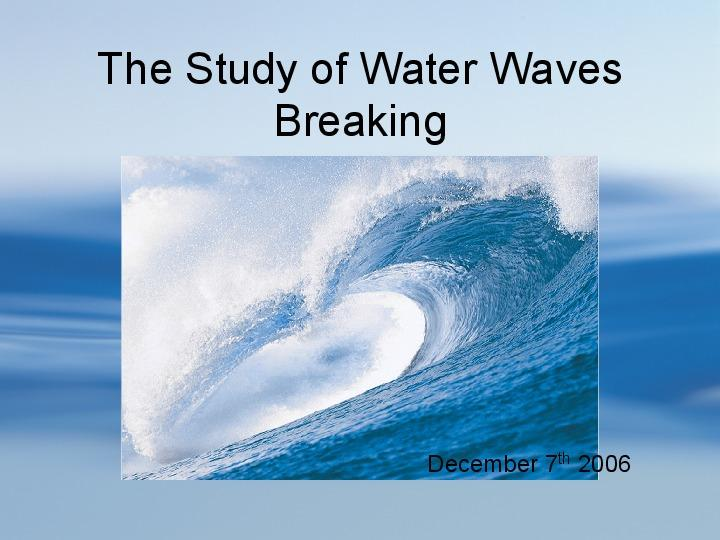title: (85, 37, 639, 148)
